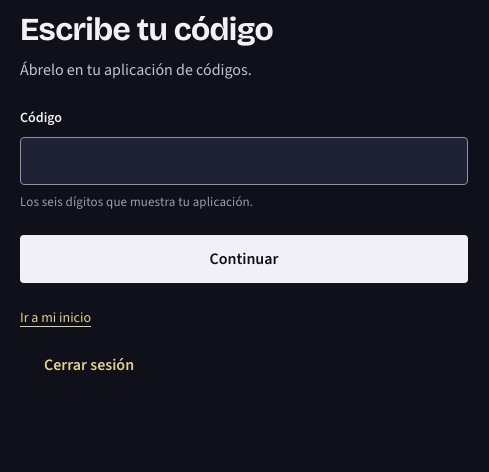
Scenario: la pantalla de dar el código (PA-12, pedir) › no se supo: lo dice en una alerta, sin marcar el campo
The image size is (489, 472).
In the field labelled "Código": (244, 161) x1=20 y1=137 x2=468 y2=185, type "123 456"
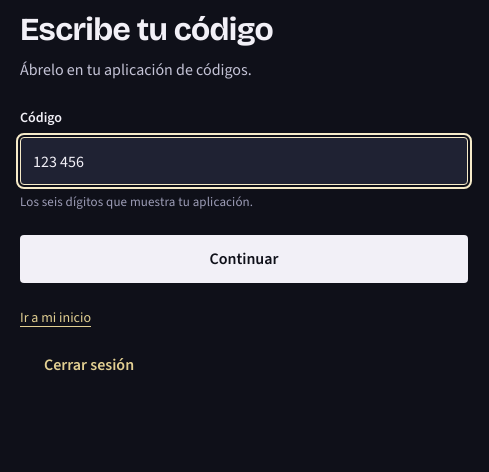
Click the button "Continuar": click(244, 259) x1=20 y1=235 x2=468 y2=283
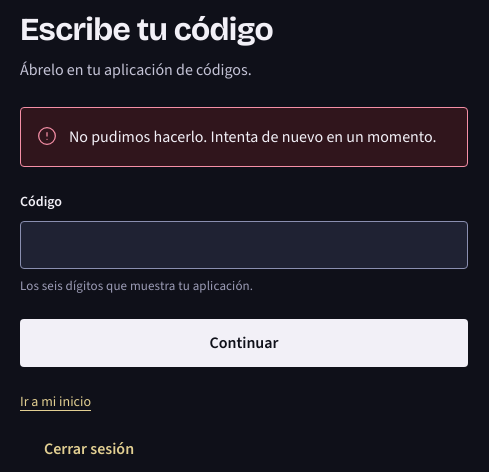
Result: the message reads "No pudimos hacerlo. Intenta de nuevo en un momento." at x1=69 y1=126 x2=436 y2=147
